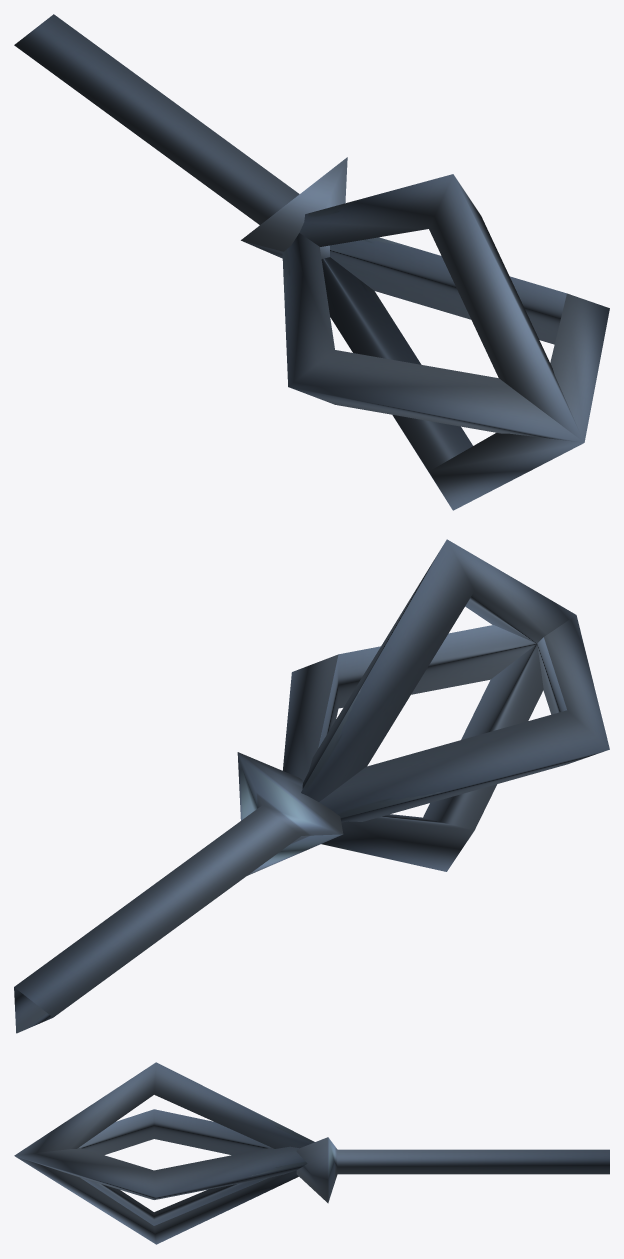
File: Chef_Bullet.fbx
3 renders of one model, top to bottom at view 1: azimuth 30°, elevation 25°; view 2: azimuth 150°, elevation 25°; view 3: azimuth 270°, elevation 25°, orthographic. The views are drawn at different scales.
Parts seen in each view (by area): view 1: ammo; view 2: ammo; view 3: ammo.
Boxes of the visible parts, <box> form: ammo: <box>14,14,609,510</box>; ammo: <box>14,539,609,1033</box>; ammo: <box>14,1062,609,1244</box>.
Size of the model in its own units: 0.2124 by 0.2124 by 0.6288.
